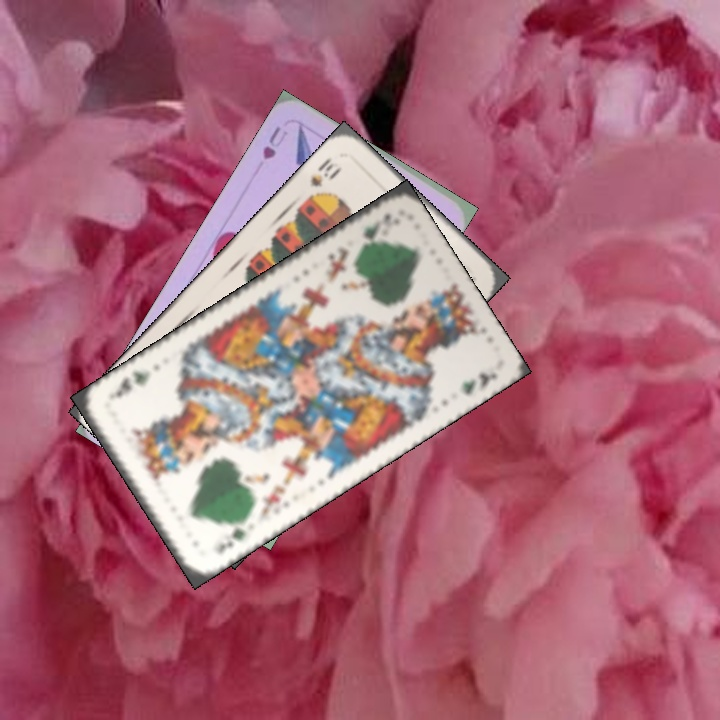GK: (354, 208, 402, 251), (214, 514, 250, 557)
HU: (258, 122, 291, 162)
S10: (305, 154, 345, 190)
